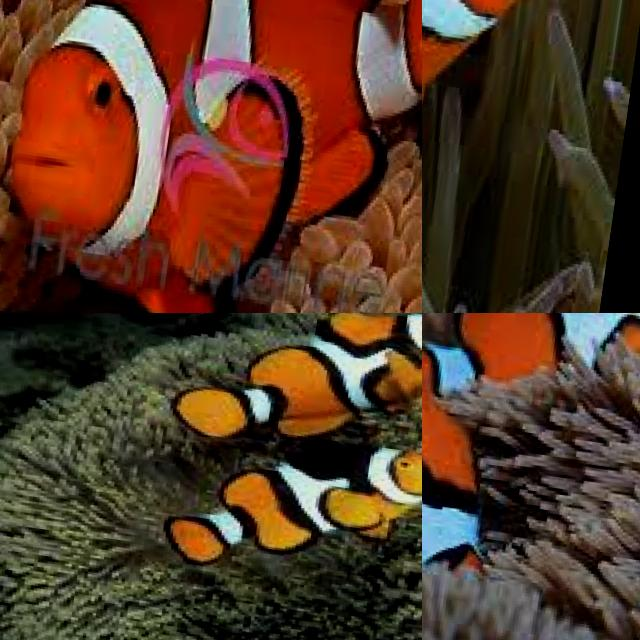Amphiprion-percula: (0, 0, 422, 313), (422, 0, 640, 313), (134, 409, 422, 640), (422, 313, 609, 640), (162, 313, 422, 486), (422, 313, 640, 475), (422, 0, 513, 83)
